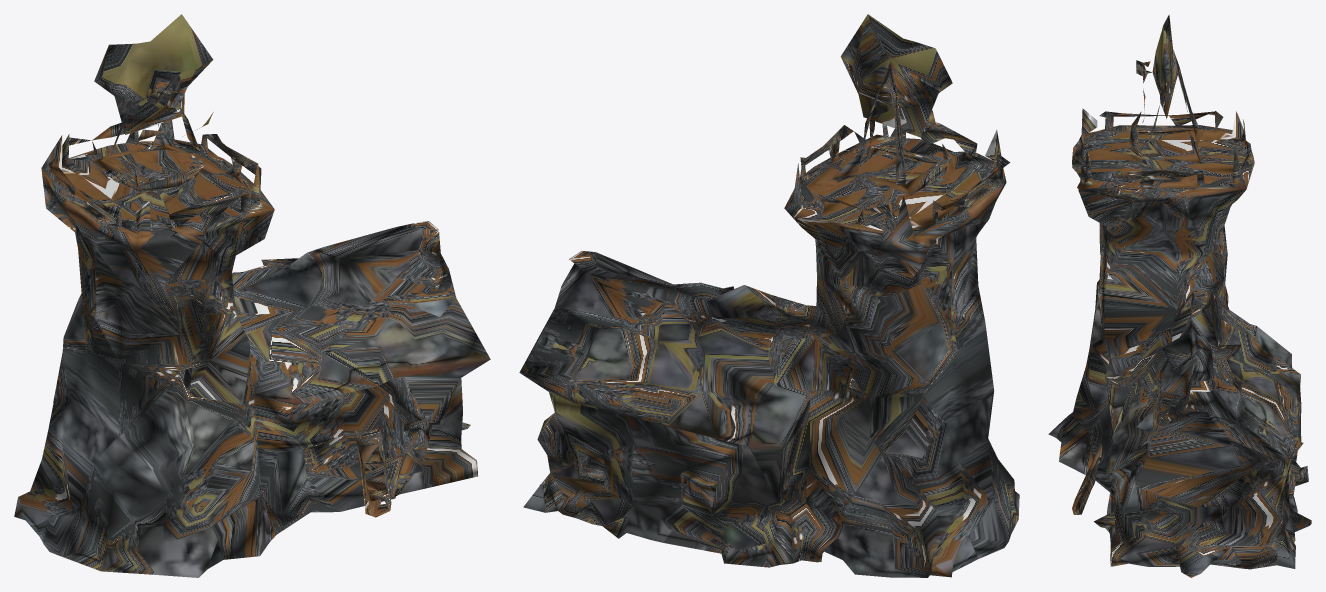
The model's file is h_star_far.glb.
3 renders of one model, left to right at view 1: azimuth 30°, elevation 25°; view 2: azimuth 150°, elevation 25°; view 3: azimuth 270°, elevation 25°, orthographic. The views are drawn at different scales.
Visible parts, largest first — view 1: tripo_node_bbc34142-afa0-4b2a-903a-b0939d2f61e7; view 2: tripo_node_bbc34142-afa0-4b2a-903a-b0939d2f61e7; view 3: tripo_node_bbc34142-afa0-4b2a-903a-b0939d2f61e7.
Boxes of the visible parts, x1,y1,x2,y2 form: tripo_node_bbc34142-afa0-4b2a-903a-b0939d2f61e7: (14, 14, 490, 577); tripo_node_bbc34142-afa0-4b2a-903a-b0939d2f61e7: (519, 14, 1019, 577); tripo_node_bbc34142-afa0-4b2a-903a-b0939d2f61e7: (1048, 14, 1311, 577).
Bounding box in the file's own units: 0.8994 × 0.9846 × 0.5494.
Materials: 1 (1 with a texture image).
